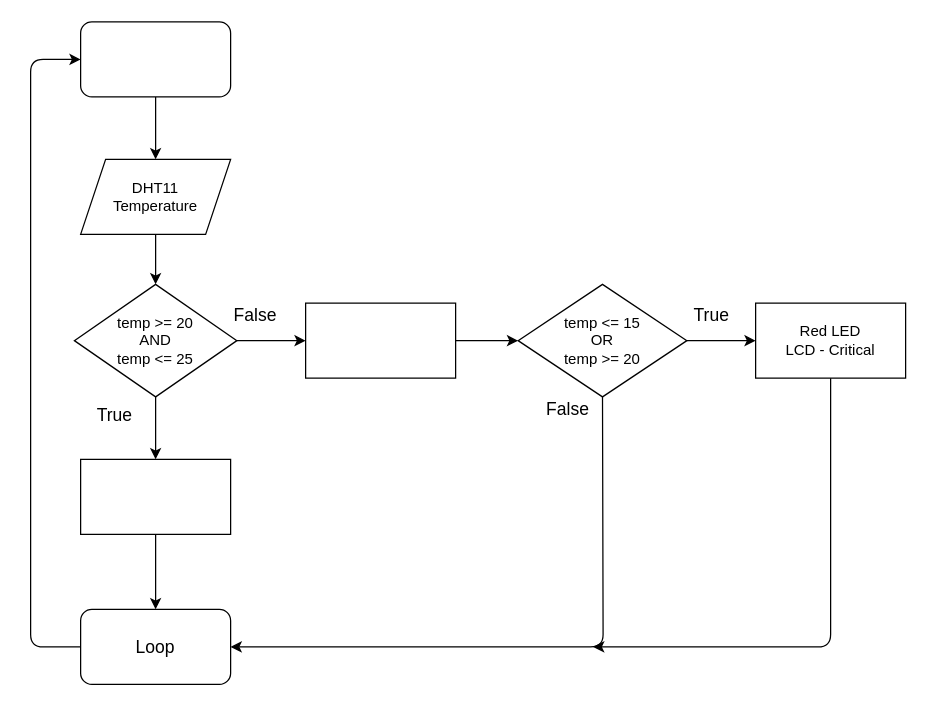
The diagram is 928 pixels wide and 706 high, and some of its shapes have lost their labels. Each missing label, with the box of its shape:
Green LED On LCD - All Ok: (79, 458, 231, 534)
START: (79, 21, 231, 97)
Yellow LED LCD - Warning: (304, 302, 456, 378)
